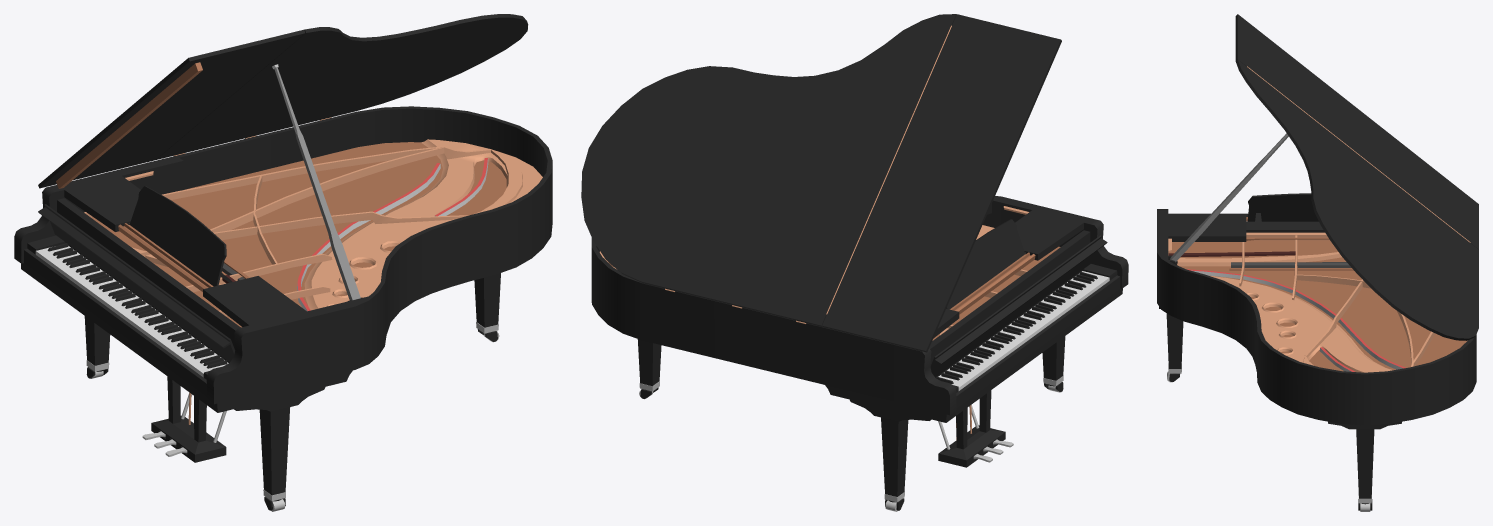
Rendered from GrPiano.fbx.
3 views of the same model, side by side, from view 1: azimuth 30°, elevation 25°; view 2: azimuth 150°, elevation 25°; view 3: azimuth 270°, elevation 25° (orthographic). The views are drawn at different scales.
Parts seen in each view (by area): view 1: 0GrPiano, 1RoofMain, RoofAdd, Paper1, 2Close, 3Stick; view 2: 1RoofMain, 0GrPiano, RoofAdd, 2Close, Paper1; view 3: 0GrPiano, 1RoofMain, RoofAdd, Paper1, 3Stick, Paper2.
Boxes of the visible parts, x1,y1,x2,y2 form: 0GrPiano: (14,106,552,501); 1RoofMain: (156,14,528,159); RoofAdd: (38,29,305,188); Paper1: (129,186,226,286); 2Close: (38,204,235,362); 3Stick: (274,67,360,300); 1RoofMain: (581,14,956,326); 0GrPiano: (591,196,1128,502); RoofAdd: (822,14,1061,352); 2Close: (930,235,1107,377); Paper1: (946,219,1025,309); 0GrPiano: (1157,209,1476,503); 1RoofMain: (1236,60,1478,340); RoofAdd: (1235,14,1478,249); Paper1: (1246,193,1318,221); 3Stick: (1170,133,1288,261); Paper2: (1246,213,1323,230).
Bounding box in the file's own units: 199 × 182 × 153.
